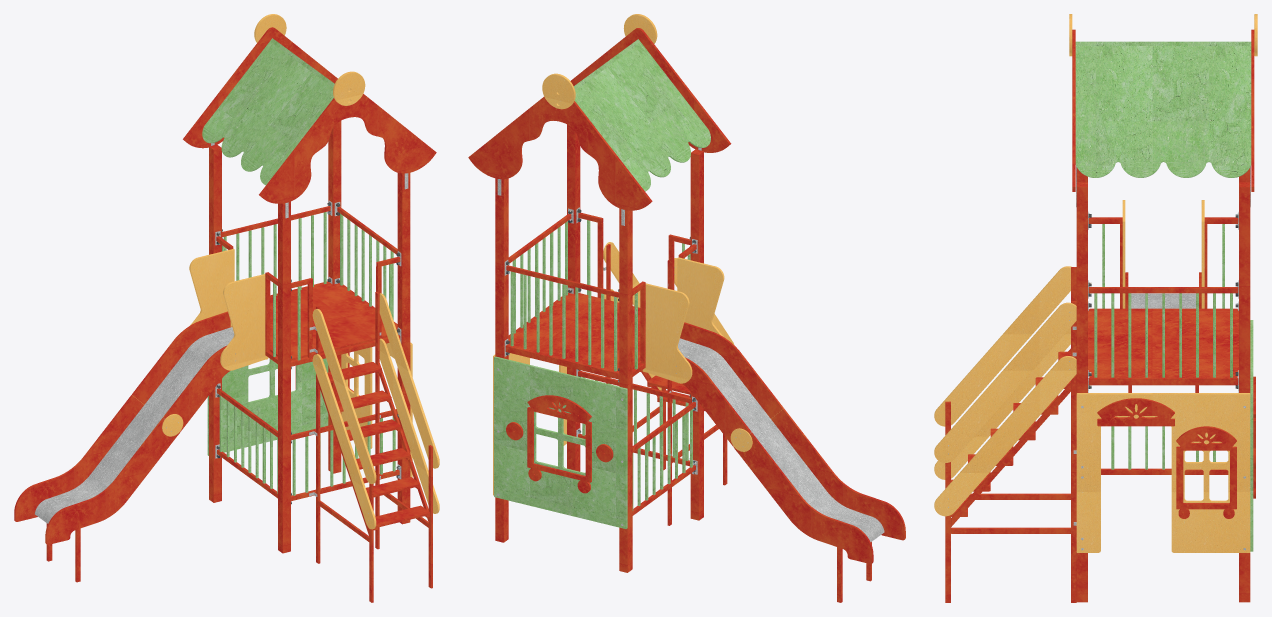
File: w_playground_slide.gltf
3 renders of one model, left to right at view 1: azimuth 30°, elevation 25°; view 2: azimuth 150°, elevation 25°; view 3: azimuth 270°, elevation 25°, orthographic. The views are drawn at different scales.
Visible parts, largest first — view 1: tobogan; view 2: tobogan; view 3: tobogan.
Boxes of the visible parts, <box> form: tobogan: <box>14,14,439,602</box>; tobogan: <box>468,14,905,602</box>; tobogan: <box>934,14,1257,602</box>.
Size of the model in its own units: 2.79 by 3.5 by 1.8.
Materials: 5 (5 with a texture image).
